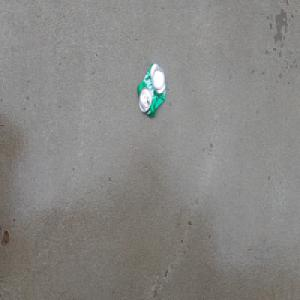SodaCan: (137, 61, 167, 119)
